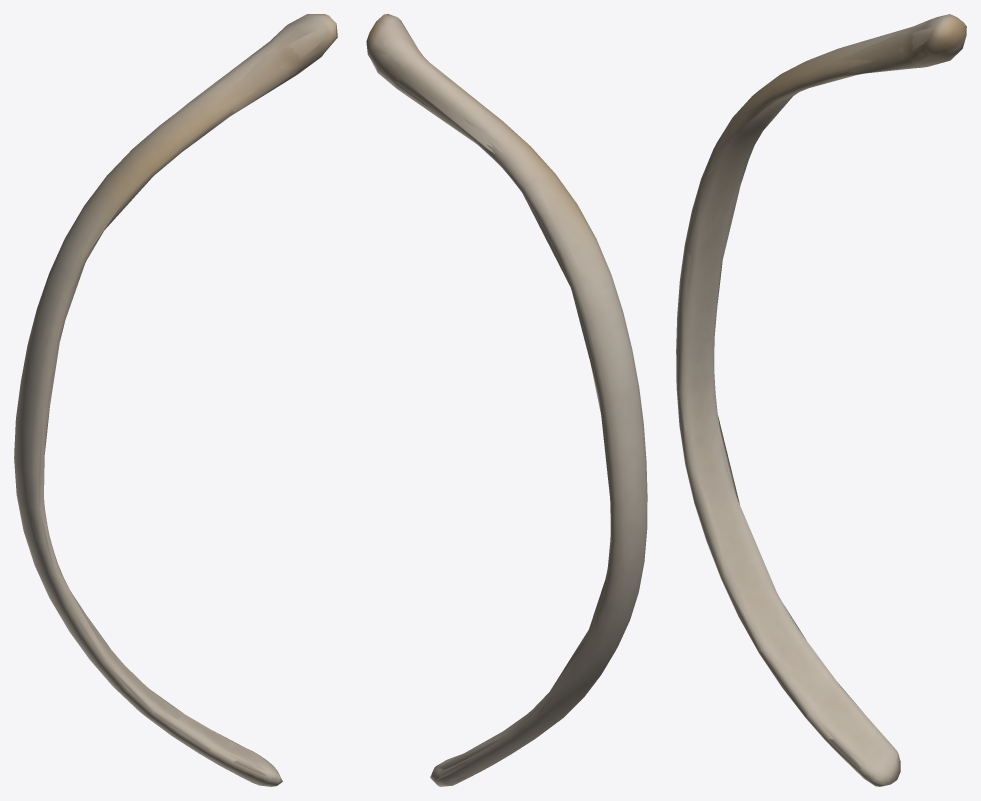
Rendered from Rib R06.fbx.
The picture shows the model from 3 angles, left to right: view 1: azimuth 30°, elevation 25°; view 2: azimuth 150°, elevation 25°; view 3: azimuth 330°, elevation 25°; orthographic projection. The views are drawn at different scales.
Parts seen in each view (by area): view 1: Rib R06, Rib R06 low, Rib R06 high; view 2: Rib R06, Rib R06 low, Rib R06 high; view 3: Rib R06 low, Rib R06 high, Rib R06.
Part boxes in pixels (x1,y1,x2,y2): Rib R06: [14, 14, 337, 785]; Rib R06 low: [25, 14, 337, 786]; Rib R06 high: [16, 20, 336, 782]; Rib R06: [366, 14, 647, 786]; Rib R06 low: [367, 14, 644, 786]; Rib R06 high: [372, 32, 640, 780]; Rib R06 low: [678, 15, 965, 786]; Rib R06 high: [680, 17, 961, 777]; Rib R06: [676, 14, 966, 786].
Bounding box in the file's own units: 6.62 × 16.38 × 2.01.
1 material, 1 textured.
